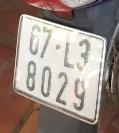0: (40, 65, 52, 99)
2: (54, 69, 70, 107)
3: (77, 37, 92, 73)
6: (26, 22, 39, 56)
7: (41, 26, 54, 60)
8: (25, 59, 38, 93)
9: (72, 75, 86, 113)
L: (60, 30, 75, 69)
